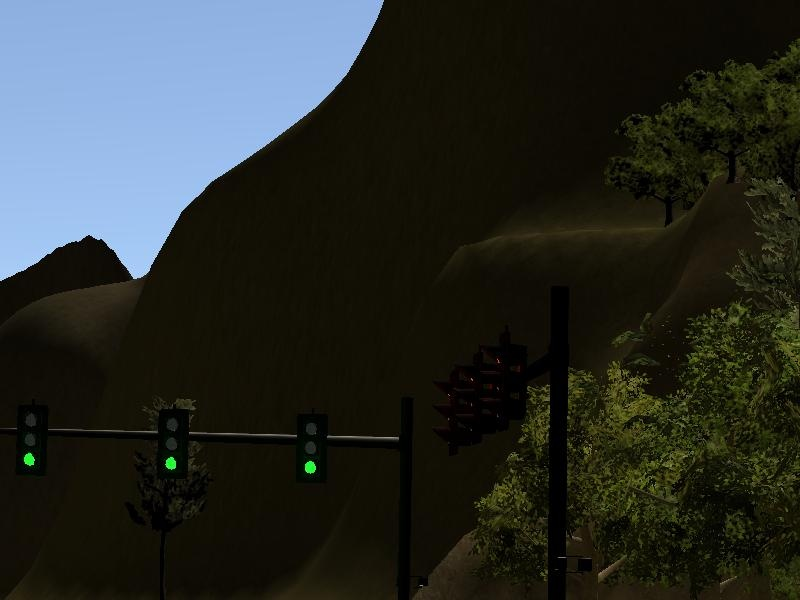GREEN: (156, 407, 188, 479), (15, 402, 47, 474), (295, 414, 326, 480)
